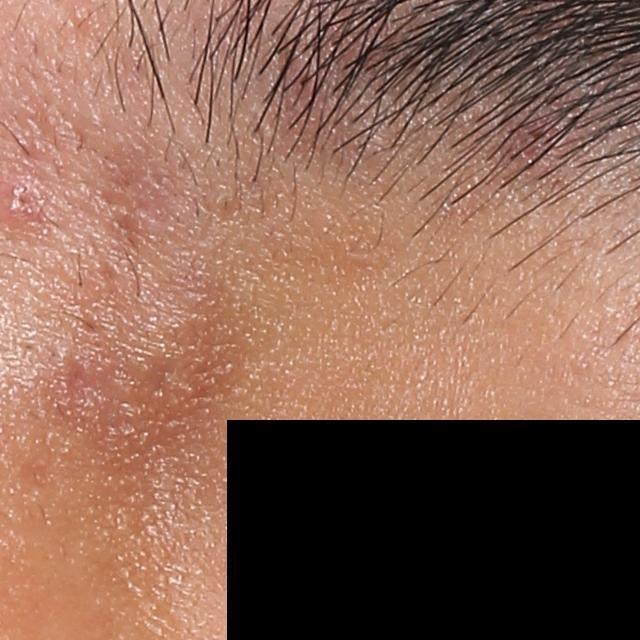papule: (1, 177, 51, 224)
